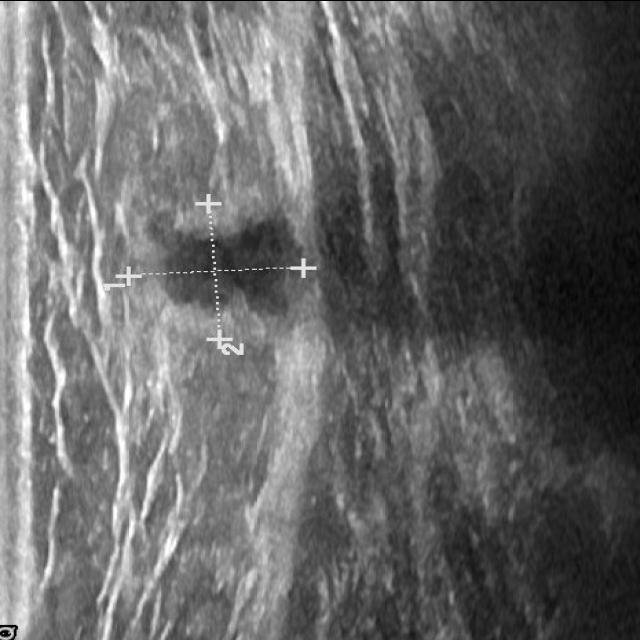Malignant: (153, 230, 288, 310)
